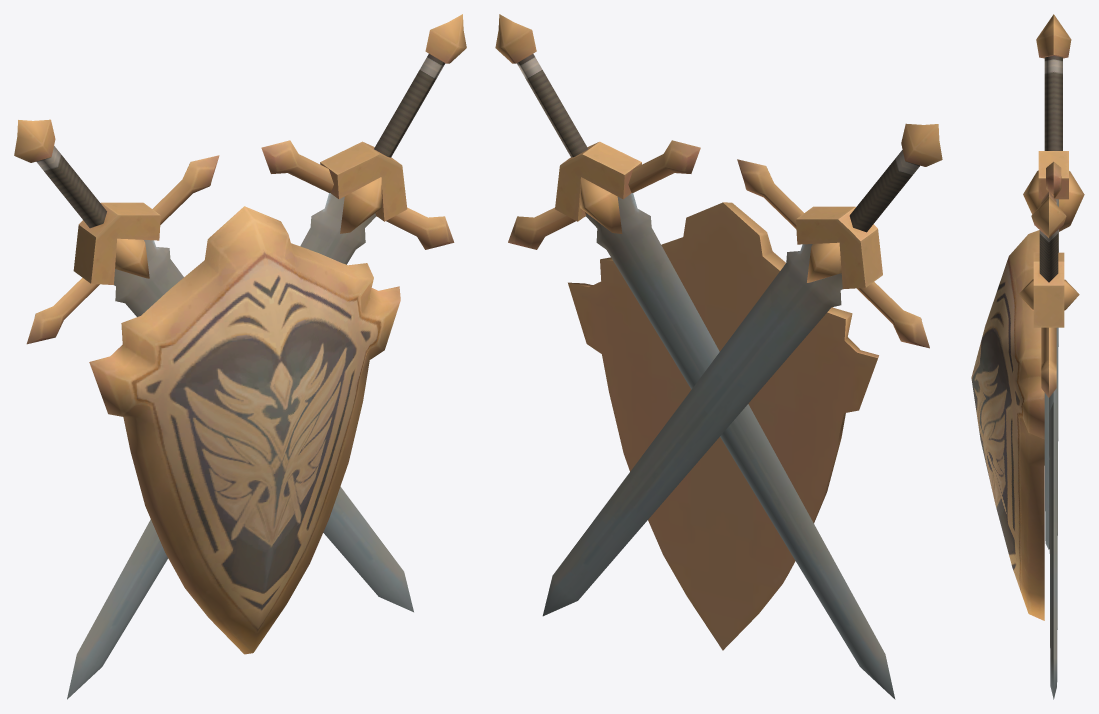
File: Homeworld_Interior_Md_Walldecoration_Ornaments_01_Vo.fbx
The picture shows the model from 3 angles, left to right: view 1: azimuth 30°, elevation 25°; view 2: azimuth 150°, elevation 25°; view 3: azimuth 270°, elevation 25°; orthographic projection. The views are drawn at different scales.
Parts seen in each view (by area): view 1: Indoor_MdProps_Knight_Squate02_Vo; view 2: Indoor_MdProps_Knight_Squate02_Vo; view 3: Indoor_MdProps_Knight_Squate02_Vo.
Boxes of the visible parts, left/top/right/bottom form: Indoor_MdProps_Knight_Squate02_Vo: left=14, top=14, right=466, bottom=699; Indoor_MdProps_Knight_Squate02_Vo: left=495, top=14, right=942, bottom=699; Indoor_MdProps_Knight_Squate02_Vo: left=971, top=14, right=1084, bottom=699.
Bounding box in the file's own units: 1.78 × 2.23 × 0.4432.
